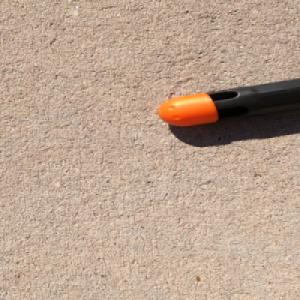PlasticPart: (155, 76, 300, 128)
